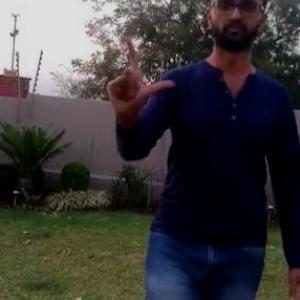land_hand: (102, 28, 177, 113)
